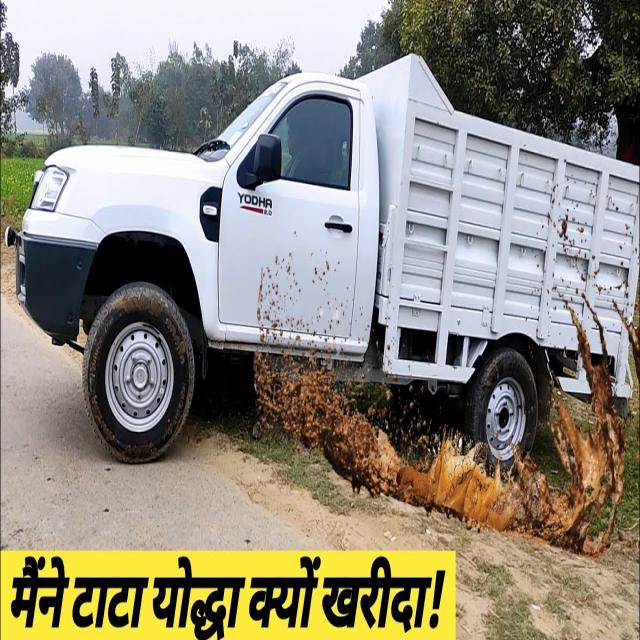light_vehicle: (17, 49, 640, 476)
